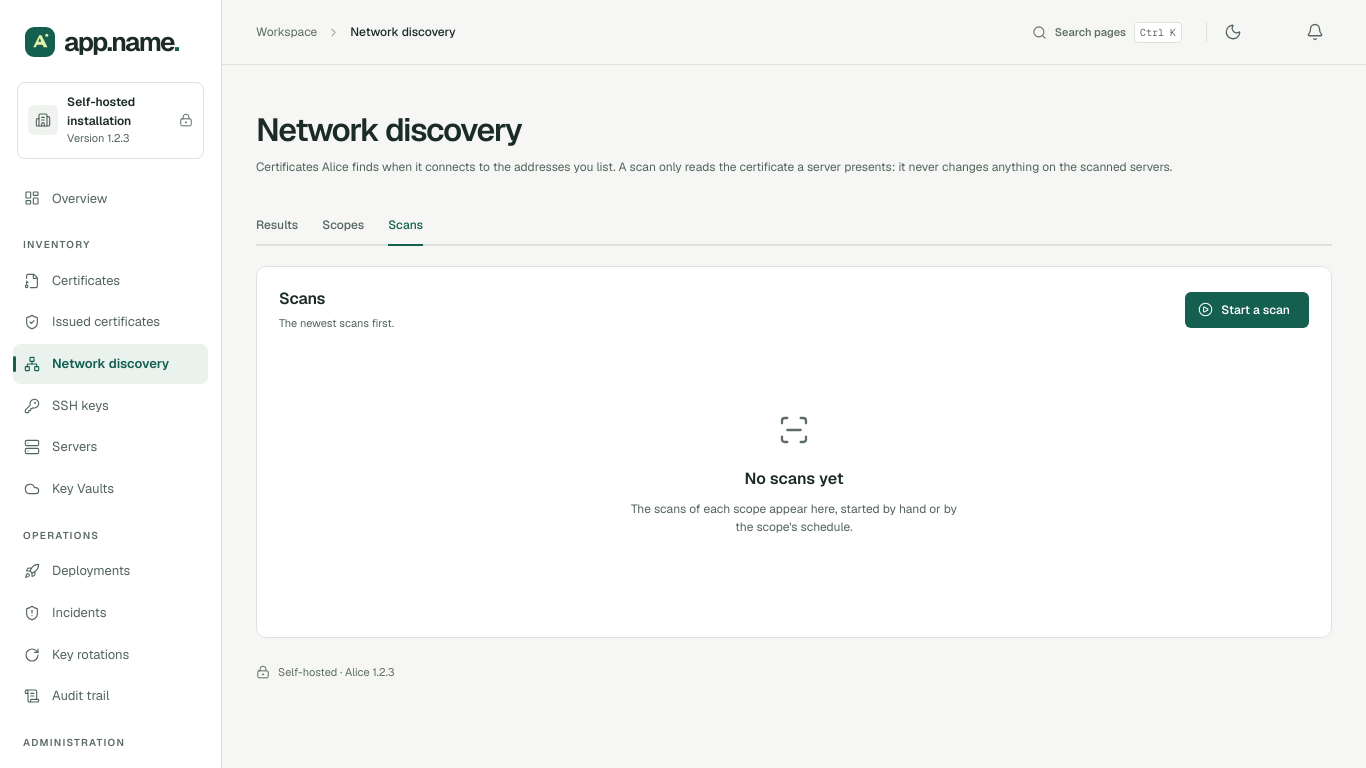
Network discovery scans › starts a scan of the scope chosen in the dialog, scopes that cannot start listed with their reason
Check: the text "No scans yet" is shown, box 744,468 -> 844,489
Click the button "Start a scan": {"x": 1247, "y": 310} 1185,292 -> 1309,328
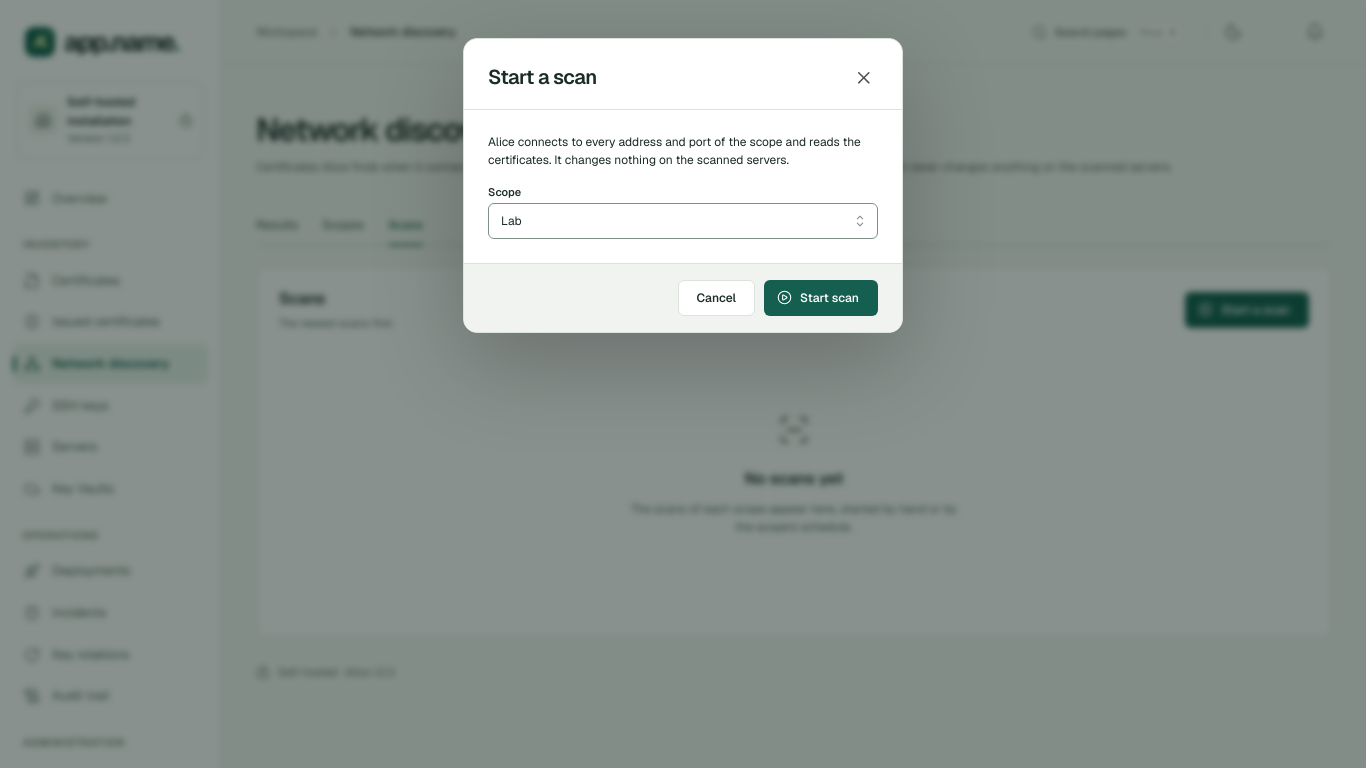
Check: the dropdown labelled "Scope" shows "Lab", box 488,203 -> 878,239
Check: the text "It changes nothing on the scanned servers" is shown, box 488,134 -> 861,168
Click the button "Start scan": {"x": 821, "y": 298} 764,280 -> 878,316
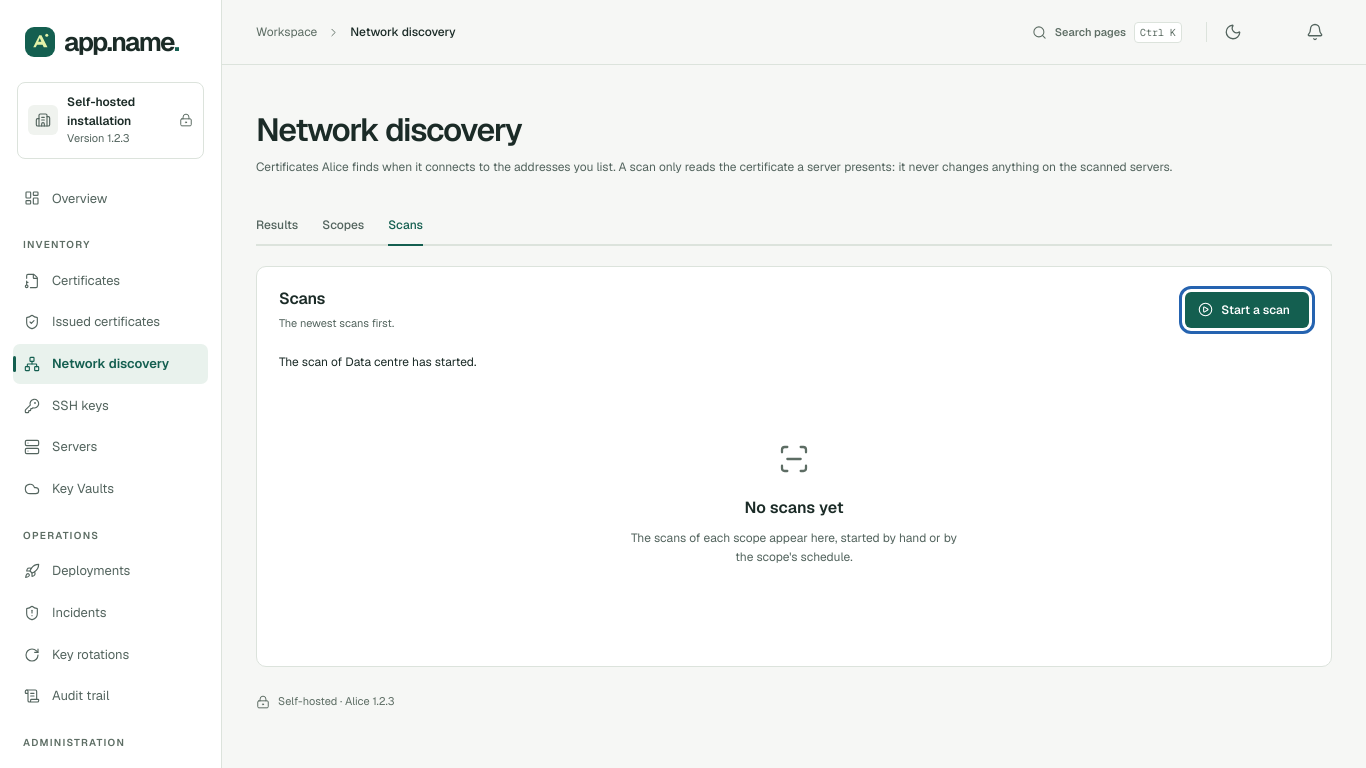
Check: the dialog is gone
Check: the text "The scan of Data centre has started." is shown, box 279,354 -> 476,370
